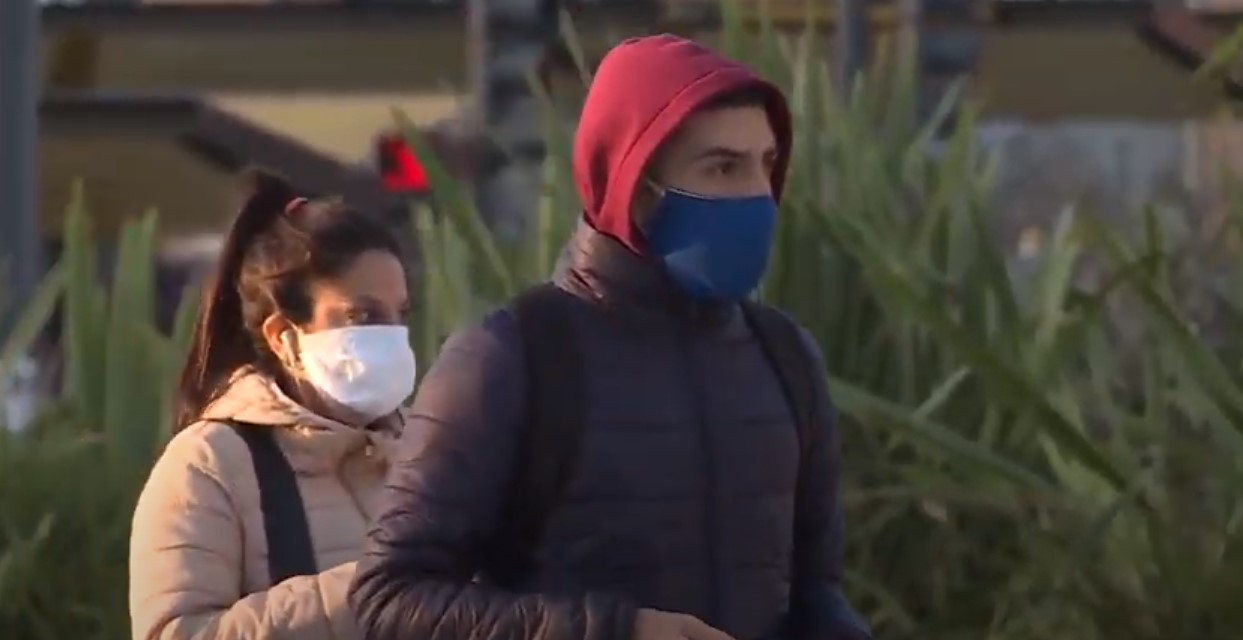face_with_mask: (592, 46, 788, 317), (247, 201, 418, 428)
